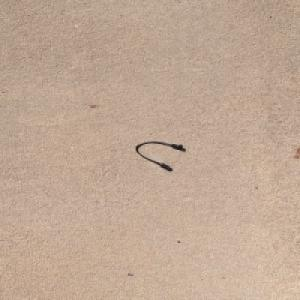Wire: (135, 140, 184, 169)
